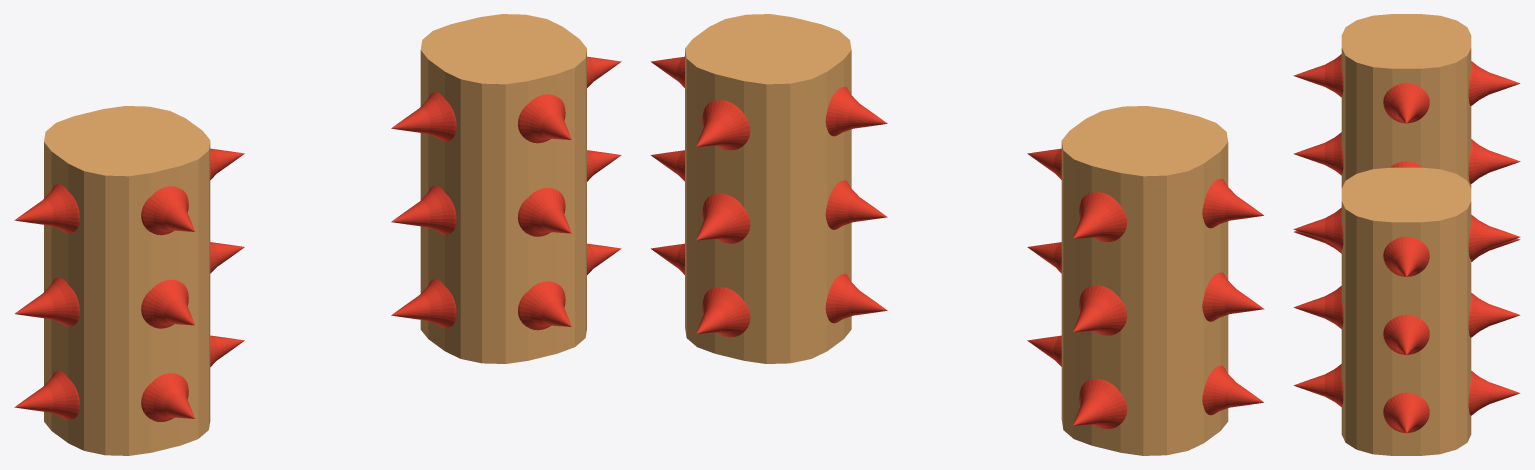
Rendered from dikenlisilindirengel.fbx.
3 renders of one model, left to right at view 1: azimuth 30°, elevation 25°; view 2: azimuth 150°, elevation 25°; view 3: azimuth 270°, elevation 25°, orthographic. The views are drawn at different scales.
Visible parts, largest first — view 1: Cube, Cube.001, Sphere.013, Sphere.012, Sphere.014, Sphere.022, Sphere.023, Sphere.021; view 2: Cube, Cube.001, Sphere.019, Sphere.018, Sphere.020, Sphere.022, Sphere.021, Sphere.023; view 3: Cube.001, Cube, Sphere.015, Sphere.016, Sphere.017, Sphere.018, Sphere.019, Sphere.020, Sphere.012, Sphere.013, Sphere.014.
Boxes of the visible parts, left/top/right/bottom form: Cube: left=14, top=106, right=244, bottom=455; Cube.001: left=420, top=14, right=586, bottom=363; Sphere.013: left=517, top=187, right=571, bottom=236; Sphere.012: left=518, top=94, right=571, bottom=143; Sphere.014: left=518, top=281, right=571, bottom=330; Sphere.022: left=391, top=185, right=456, bottom=234; Sphere.023: left=391, top=279, right=456, bottom=328; Sphere.021: left=391, top=92, right=456, bottom=141; Cube: left=1027, top=106, right=1264, bottom=455; Cube.001: left=685, top=14, right=851, bottom=363; Sphere.019: left=696, top=193, right=750, bottom=243; Sphere.018: left=696, top=100, right=750, bottom=150; Sphere.020: left=696, top=287, right=750, bottom=337; Sphere.022: left=825, top=180, right=887, bottom=229; Sphere.021: left=825, top=87, right=887, bottom=136; Sphere.023: left=825, top=273, right=887, bottom=323; Cube.001: left=1341, top=167, right=1471, bottom=455; Cube: left=1293, top=14, right=1520, bottom=261; Sphere.015: left=1383, top=236, right=1429, bottom=277; Sphere.016: left=1383, top=314, right=1429, bottom=355; Sphere.017: left=1383, top=392, right=1429, bottom=433; Sphere.018: left=1468, top=214, right=1520, bottom=259; Sphere.019: left=1468, top=293, right=1520, bottom=337; Sphere.020: left=1468, top=371, right=1520, bottom=415; Sphere.012: left=1293, top=207, right=1343, bottom=250; Sphere.013: left=1293, top=286, right=1343, bottom=328; Sphere.014: left=1293, top=364, right=1343, bottom=406.
Bounding box in the file's own units: 909 × 398 × 351.
